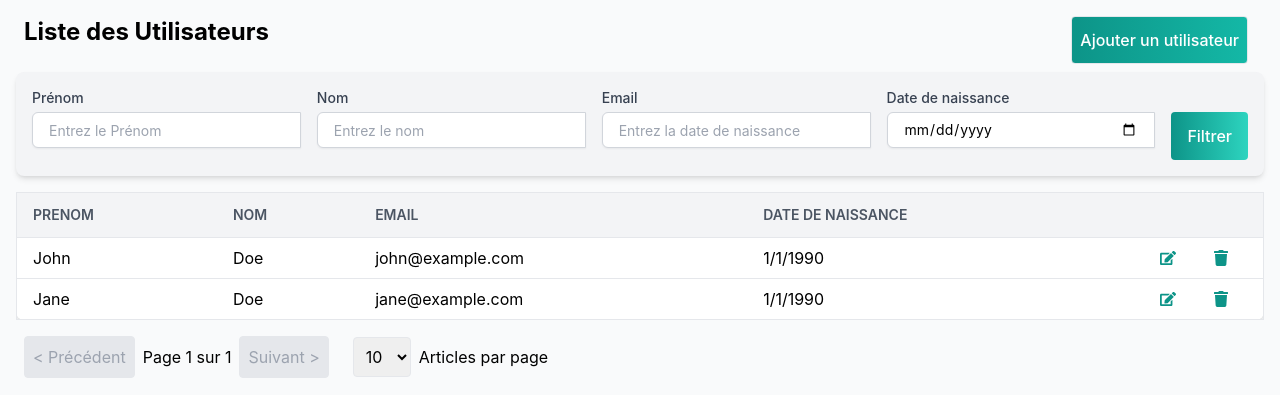
Test case: HomeContainer › filters users when filter criteria are applied
The width and height of the screenshot is (1280, 395).
# Assuming UserFilter component triggers handleFilter
In the field with test id "firstName": (166, 130) [32,112,301,148], type "John"
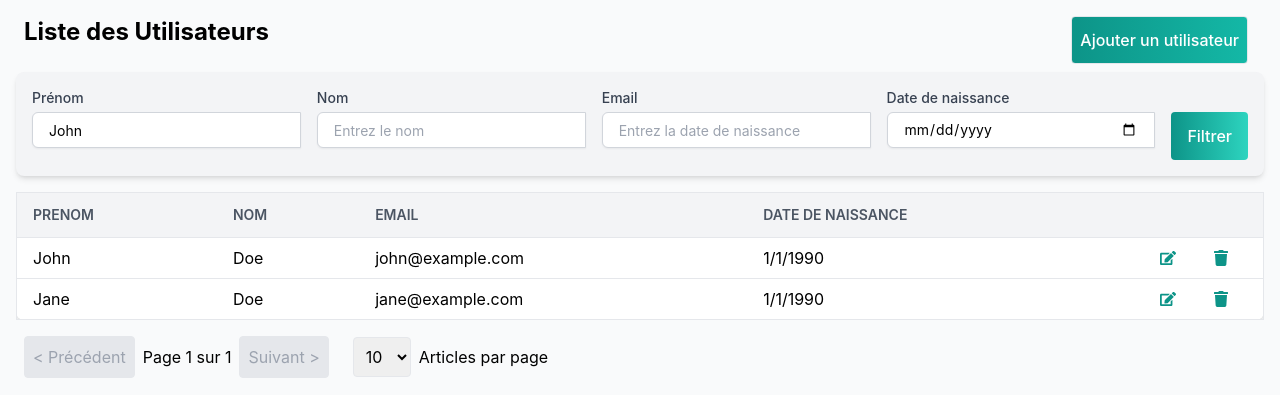
# Assuming a filter button exists and we need to trigger it
Click the button with test id "submit filter": (1210, 136) [1171,112,1248,160]
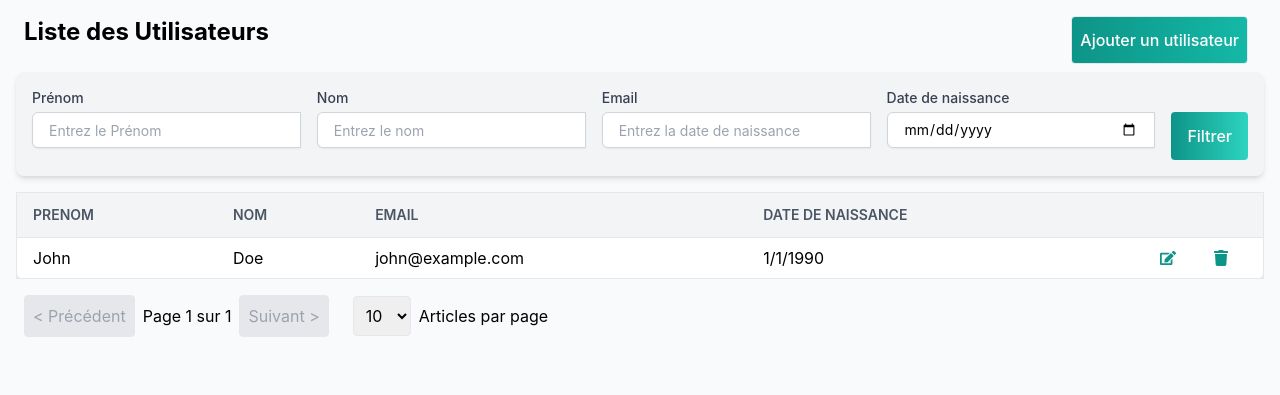
expect the text "John" is shown: met, box [16,238,217,278]
expect the text "Jane" is gone: met
